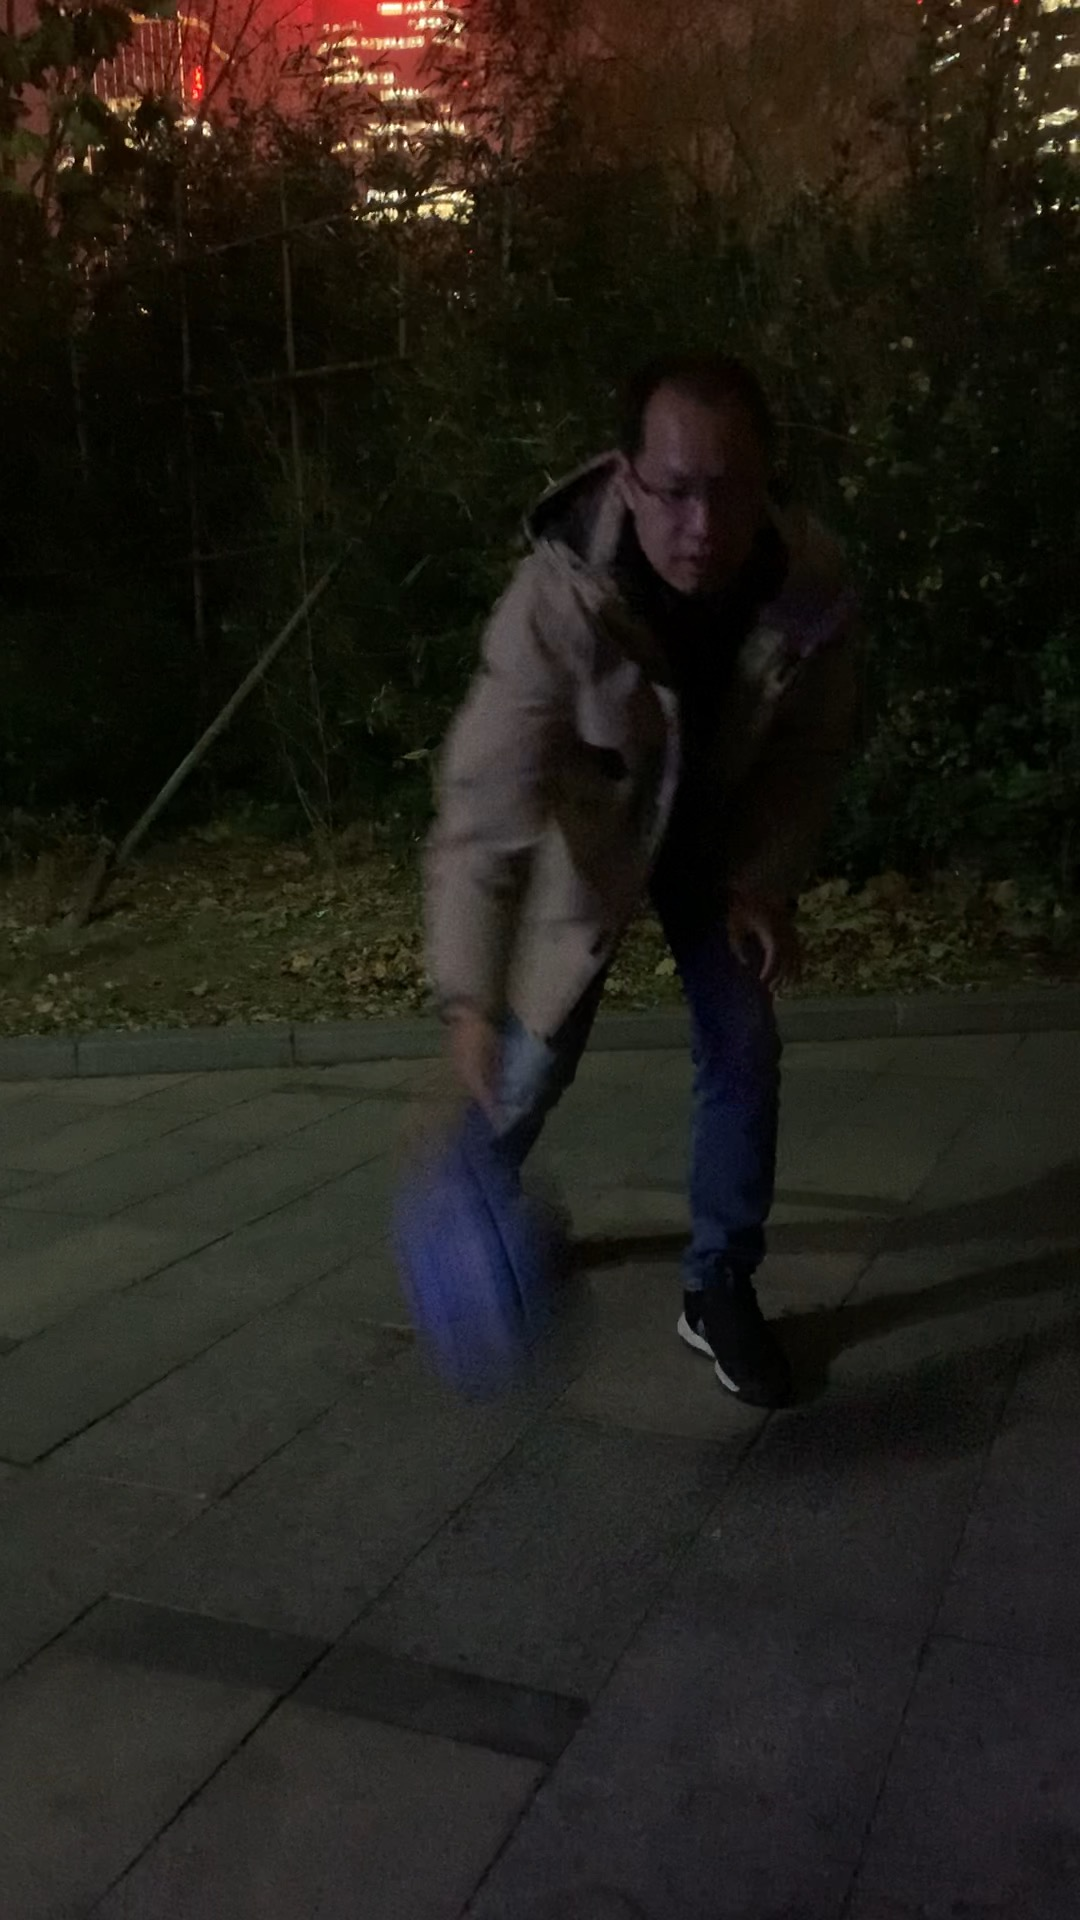ball: (396, 1189, 583, 1386)
